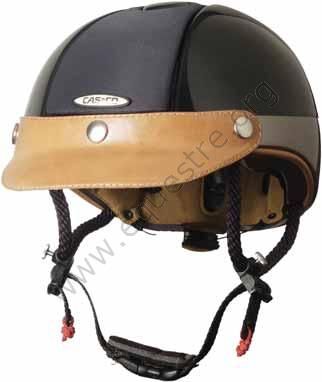helmet: (25, 16, 317, 202)
